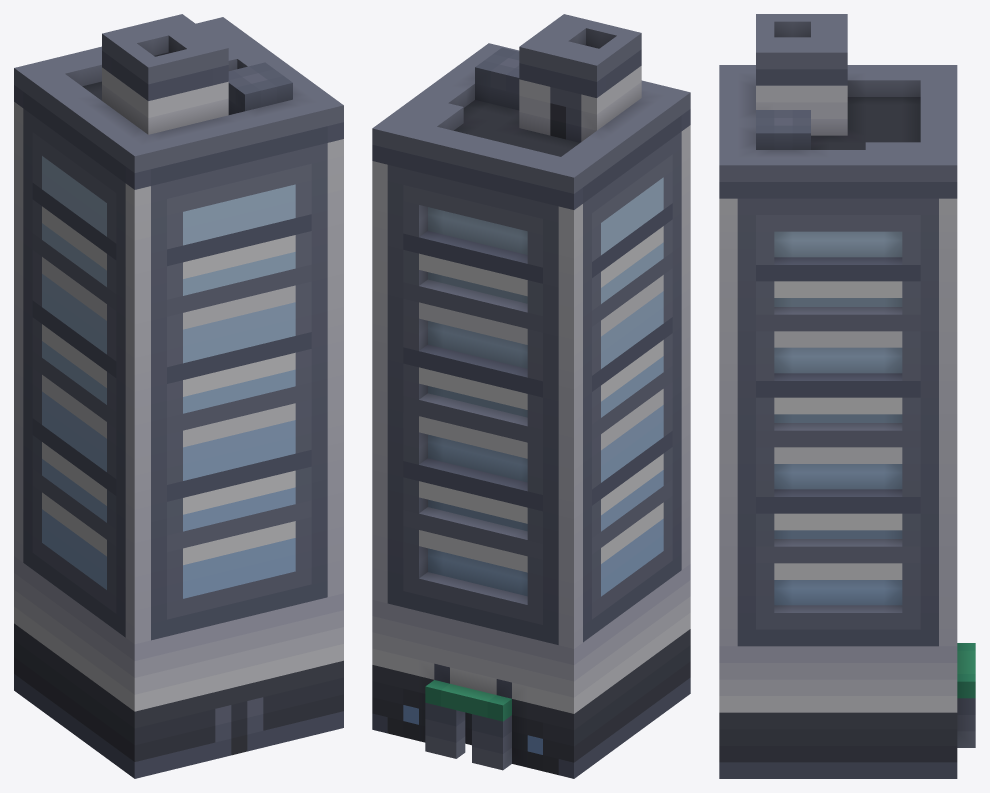
The model's file is skyscraper_c.glb.
3 renders of one model, left to right at view 1: azimuth 30°, elevation 25°; view 2: azimuth 150°, elevation 25°; view 3: azimuth 270°, elevation 25°, orthographic. The views are drawn at different scales.
Visible parts, largest first — view 1: voxels; view 2: voxels; view 3: voxels.
Part boxes in pixels (x1,y1,x2,y2): voxels: (14, 14, 343, 778); voxels: (372, 14, 690, 778); voxels: (719, 14, 975, 778).
Bounding box in the file's own units: 1.33 × 4.18 × 1.43.
